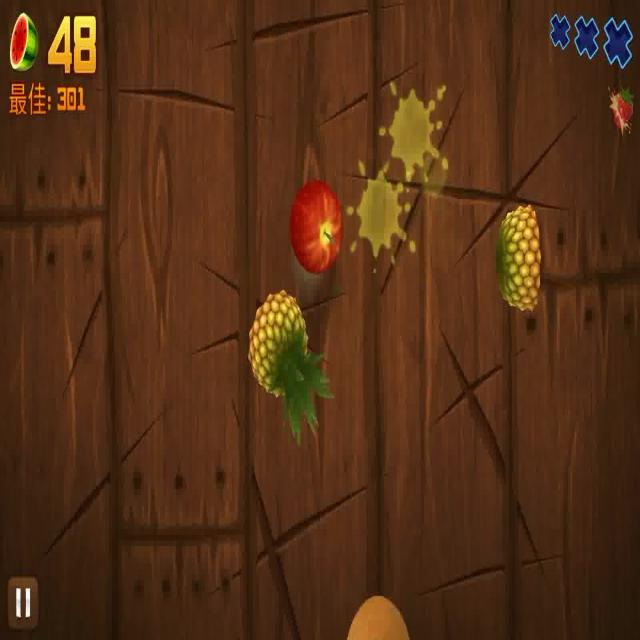fruit: (250, 288, 334, 443), (495, 204, 542, 317), (292, 178, 342, 271), (343, 595, 413, 640)
